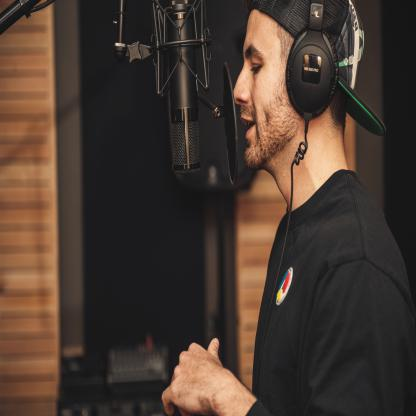Eye: (252, 63, 263, 75)
Mouth: (240, 117, 256, 139)
Nose: (233, 69, 249, 105)
